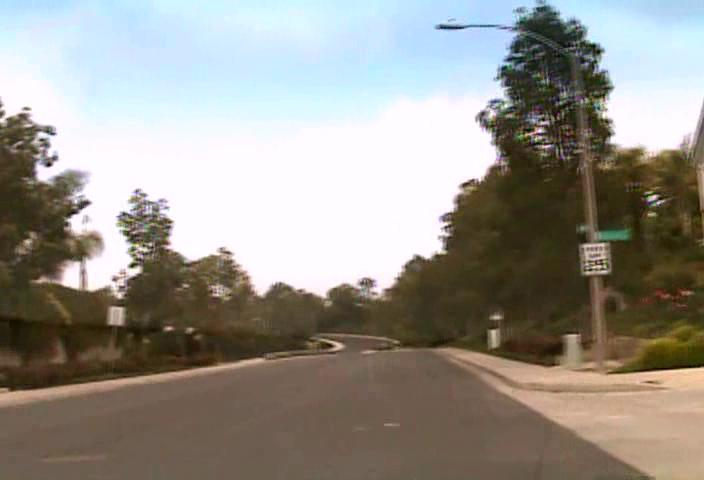speedLimit25: (580, 242, 610, 275)
